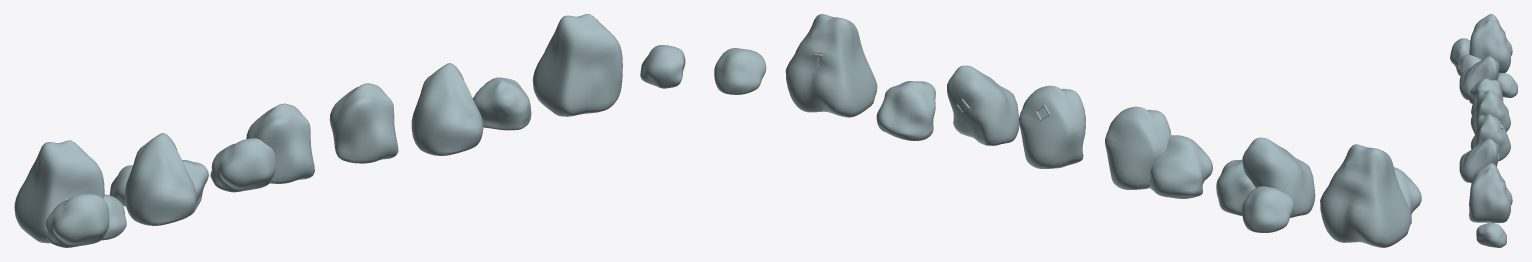
The model's file is Rocks.fbx.
3 renders of one model, left to right at view 1: azimuth 30°, elevation 25°; view 2: azimuth 150°, elevation 25°; view 3: azimuth 270°, elevation 25°, orthographic. The views are drawn at different scales.
Parts seen in each view (by area): view 1: pCube16, pCube21, pCube14, pCube13, pTorus5, pTorus3, pCube1, pCube7; view 2: pCube16, pCube14, pCube21, pCube13, pTorus3, pTorus5, pCube1, pCube7; view 3: pCube16, pCube21, pCube13, pTorus5, pCube14, pTorus3, pCube7.
Part boxes in pixels (<box>): pCube16: <box>14,140,126,247</box>; pCube21: <box>532,14,622,116</box>; pCube14: <box>210,103,314,192</box>; pCube13: <box>109,133,208,225</box>; pTorus5: <box>411,63,483,155</box>; pTorus3: <box>329,83,398,163</box>; pCube1: <box>473,77,531,130</box>; pCube7: <box>640,45,685,88</box>; pCube16: <box>1320,144,1421,247</box>; pCube14: <box>1105,106,1212,198</box>; pCube21: <box>785,14,877,117</box>; pCube13: <box>1216,137,1315,232</box>; pTorus3: <box>1019,85,1085,168</box>; pTorus5: <box>947,65,1019,145</box>; pCube1: <box>876,81,935,140</box>; pCube7: <box>714,48,766,94</box>; pCube16: <box>1450,14,1512,76</box>; pCube21: <box>1469,163,1512,223</box>; pCube13: <box>1459,56,1517,103</box>; pTorus5: <box>1459,138,1499,183</box>; pCube14: <box>1470,90,1510,134</box>; pTorus3: <box>1470,114,1510,160</box>; pCube7: <box>1476,223,1506,247</box>.
Size of the model in its own units: 27.76 by 3.72 by 4.2.
